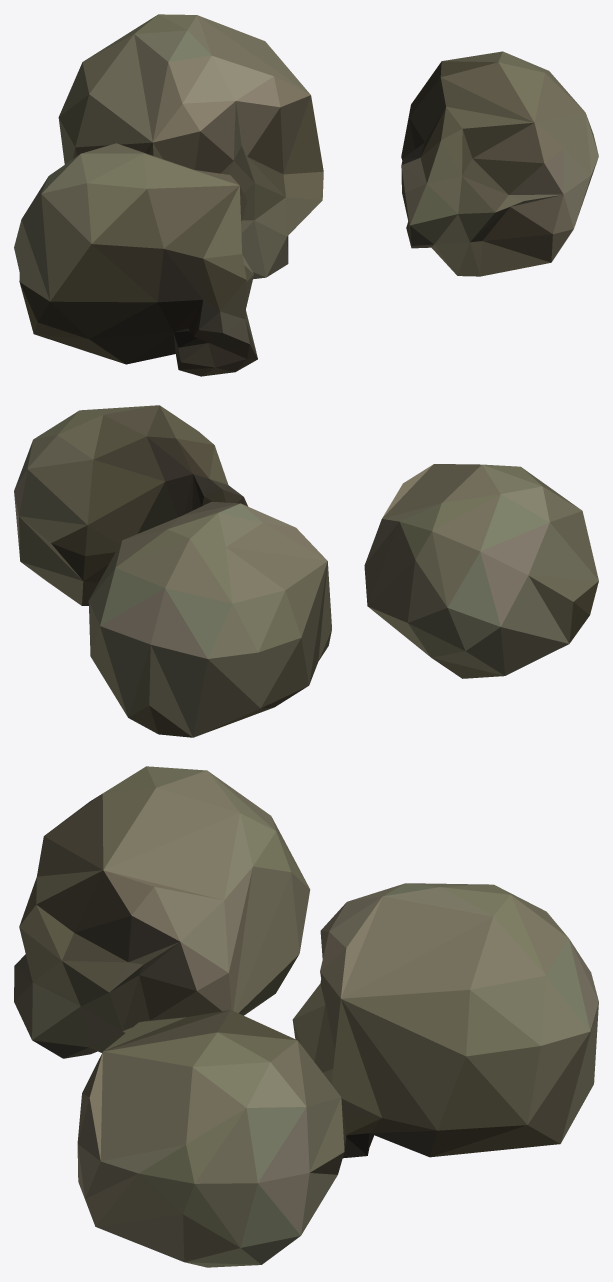
Rendered from prop_junk_skulls.fbx.
The picture shows the model from 3 angles, top to bottom: view 1: azimuth 30°, elevation 25°; view 2: azimuth 150°, elevation 25°; view 3: azimuth 270°, elevation 25°; orthographic projection. The views are drawn at different scales.
Visible parts, largest first — view 1: prop_junk_skulls; view 2: prop_junk_skulls; view 3: prop_junk_skulls.
Boxes of the visible parts, x1,y1,x2,y2 form: prop_junk_skulls: (14,14,598,376); prop_junk_skulls: (14,405,598,737); prop_junk_skulls: (14,766,598,1267).
Bounding box in the file's own units: 2.71 × 0.9668 × 2.01.
